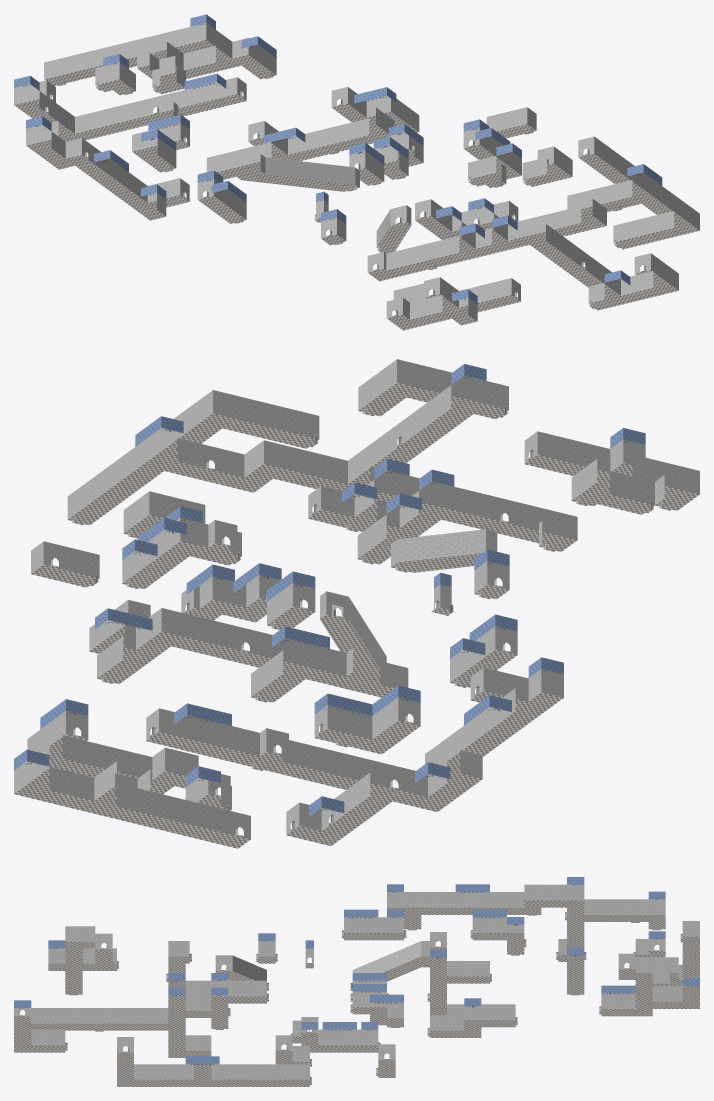
The model's file is Hallways.glb.
The picture shows the model from 3 angles, top to bottom: view 1: azimuth 30°, elevation 25°; view 2: azimuth 150°, elevation 25°; view 3: azimuth 270°, elevation 25°; orthographic projection. The views are drawn at different scales.
Parts seen in each view (by area): view 1: Wall64, Floor53, Wall1913; view 2: Wall64, Floor53, Wall1913; view 3: Wall64, Floor53, Wall1913.
Part boxes in pixels (x1,y1,x2,y2): Wall64: (14,23,699,321); Floor53: (14,40,699,330); Wall1913: (14,14,662,304); Wall64: (14,359,699,839); Floor53: (14,382,699,848); Wall1913: (14,364,645,816); Wall64: (14,884,699,1082); Floor53: (14,900,699,1086); Wall1913: (14,877,699,1064).
Size of the model in its own units: 103 by 6 by 160.
4 materials, 4 textured.
